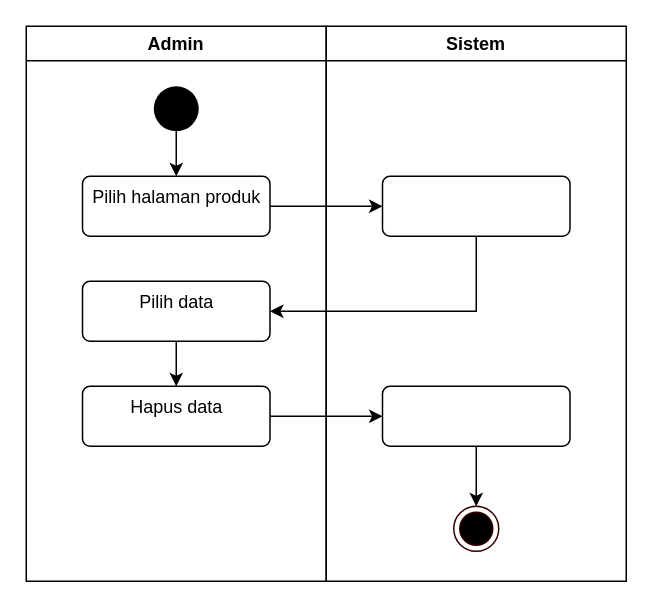
The diagram is 653 pixels wide and 608 high, and some of its shapes have lost their labels. The centre of each missing label's shape, as x and y in pixels:
"Data dihapus" goes at point 475,415.
"Menampilkan halaman produk" goes at point 475,205.
